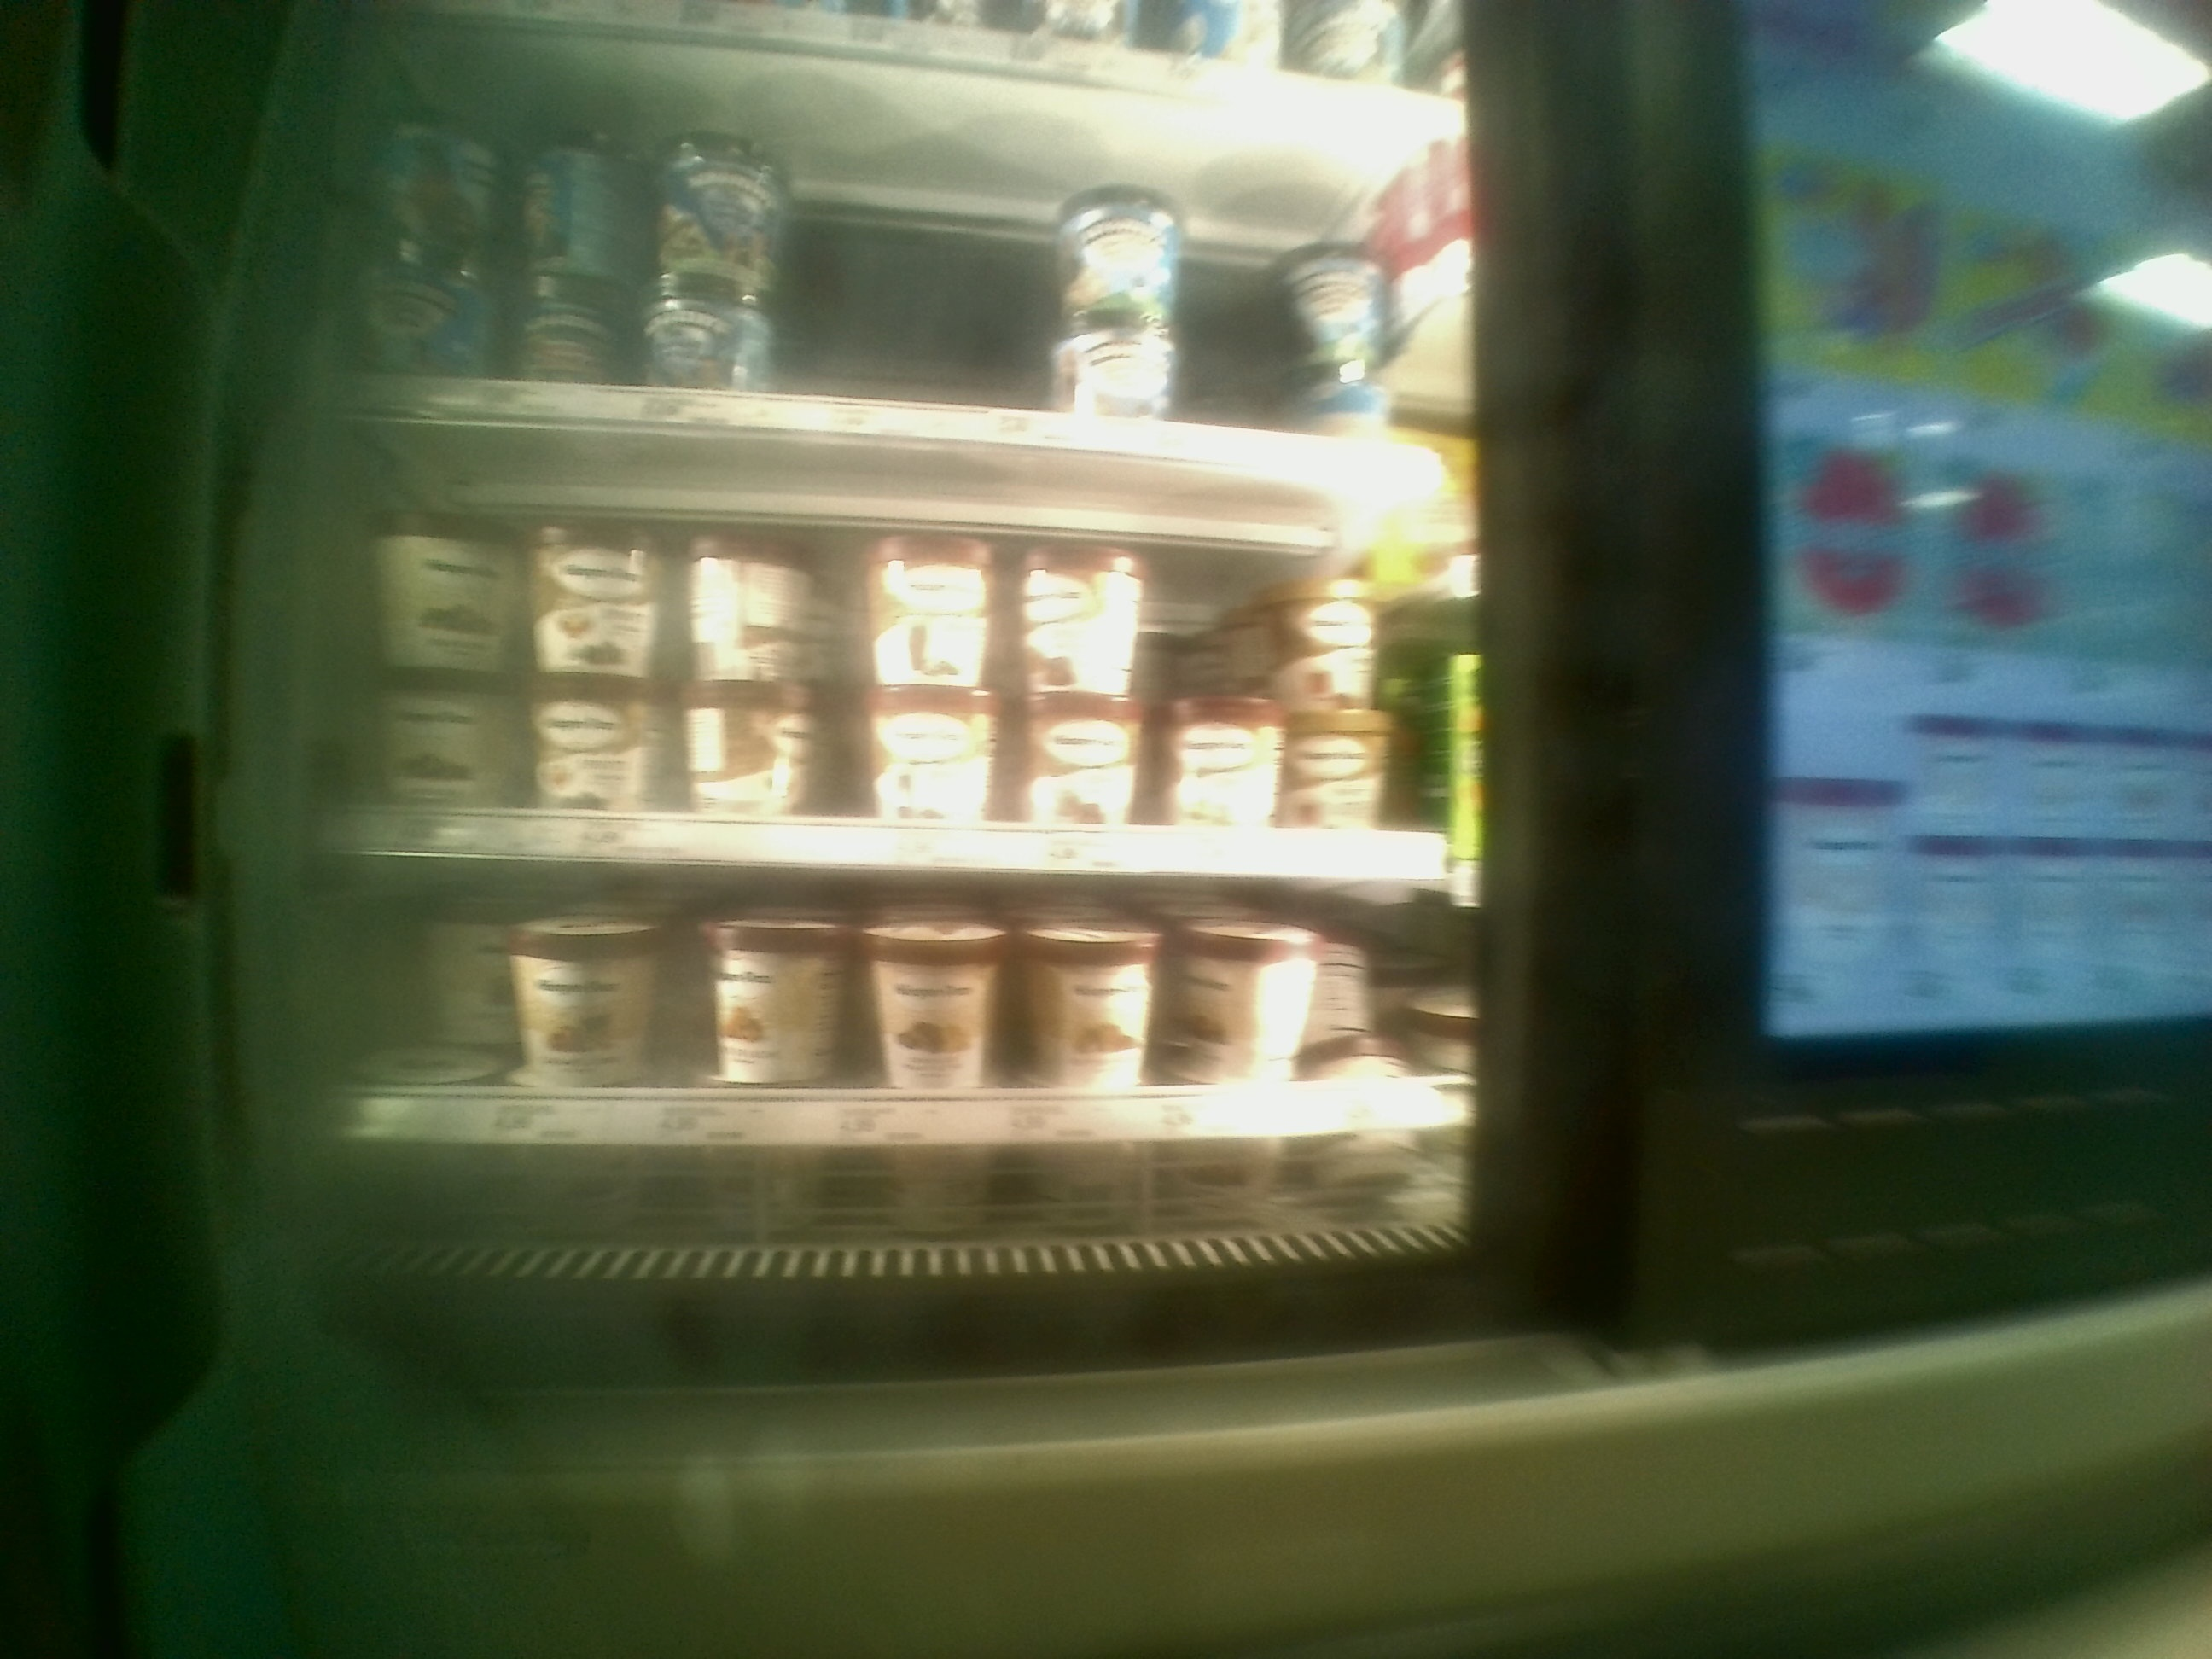shelf: (308, 413, 1489, 878), (301, 859, 1475, 1256)
